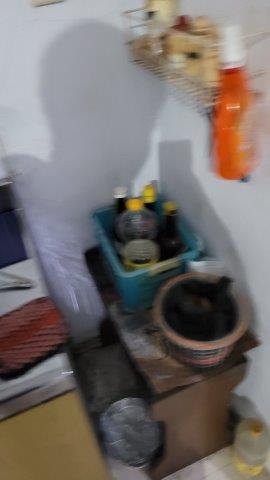botolkaca: (105, 180, 199, 269)
